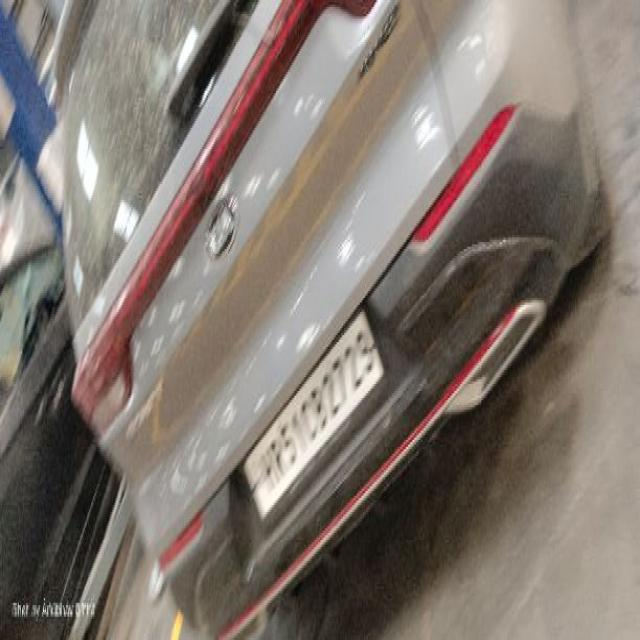license_plate: (238, 303, 385, 522)
